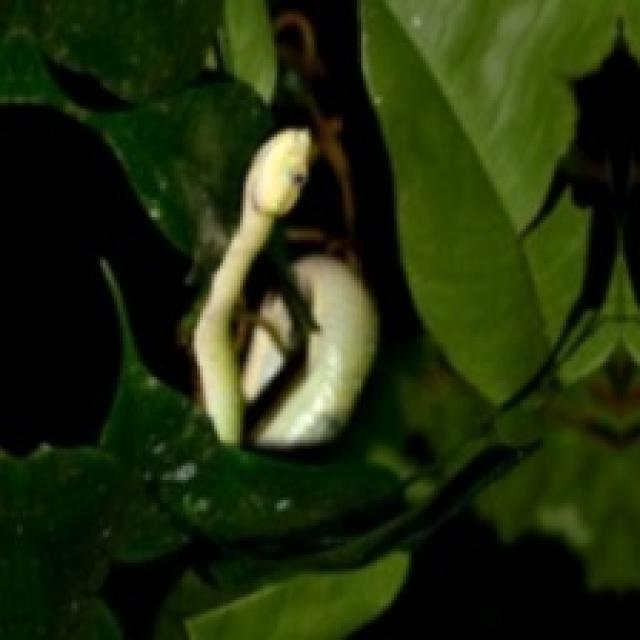north ph temple pitviper: (194, 129, 309, 443), (246, 254, 374, 446), (251, 254, 374, 446)
